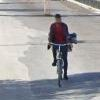bicycles: (48, 42, 72, 89)
